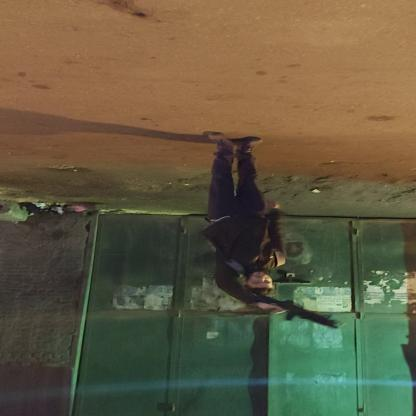long weapon: (238, 293, 340, 337)
